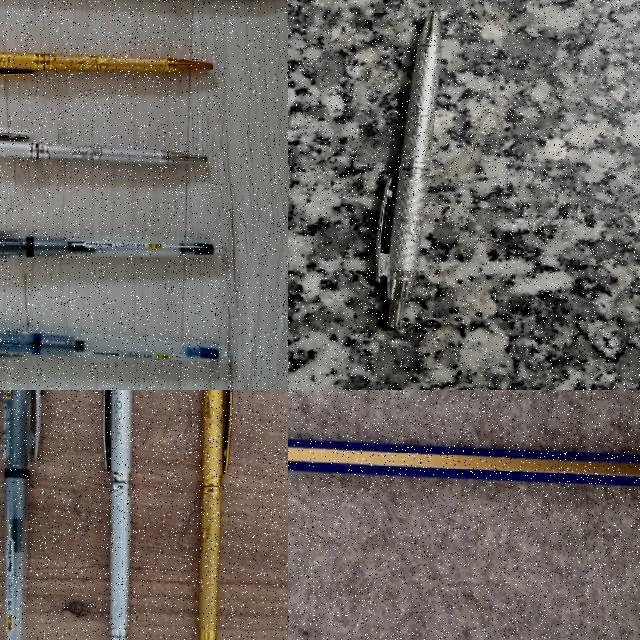pen: (0, 390, 41, 640), (0, 325, 230, 361), (0, 225, 224, 260)
pencil: (288, 440, 639, 485)
signature pen: (375, 11, 440, 327), (97, 390, 137, 640), (196, 390, 234, 640), (0, 127, 213, 163), (0, 46, 210, 77)
